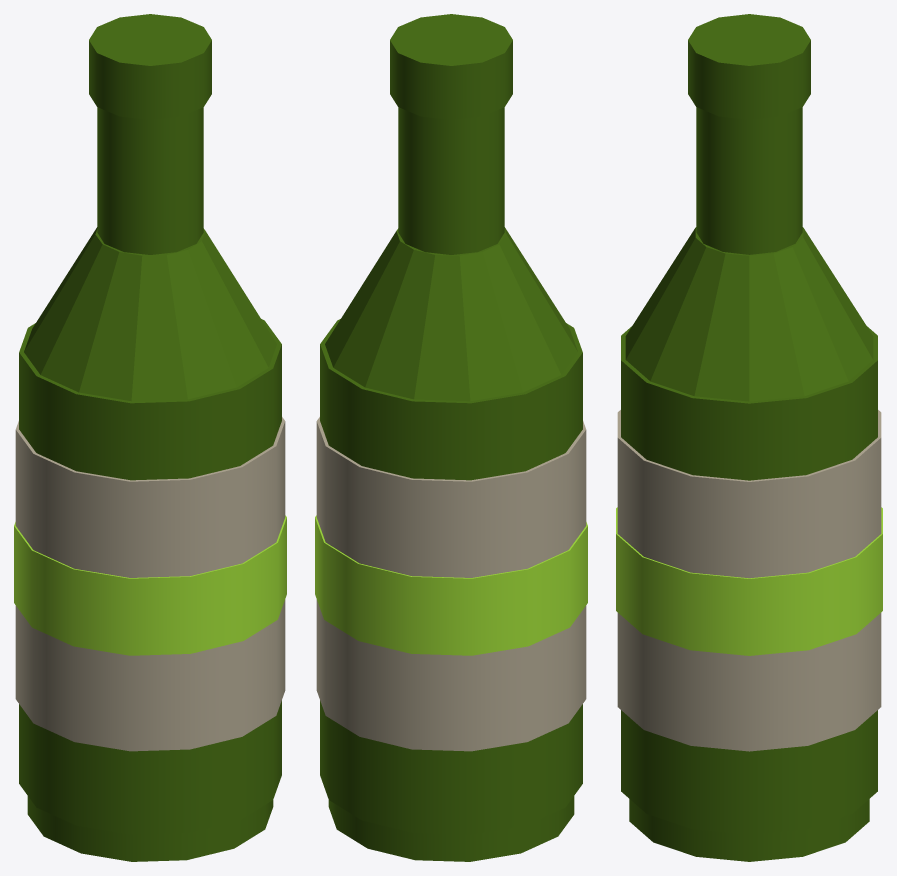
Rendered from drink_bottle_long_stride.gltf.
The picture shows the model from 3 angles, left to right: view 1: azimuth 30°, elevation 25°; view 2: azimuth 150°, elevation 25°; view 3: azimuth 270°, elevation 25°; orthographic projection.
Parts seen in each view (by area): view 1: drink_bottle_long_stride; view 2: drink_bottle_long_stride; view 3: drink_bottle_long_stride.
Boxes of the visible parts, left/top/right/bottom form: drink_bottle_long_stride: left=14, top=14, right=286, bottom=861; drink_bottle_long_stride: left=315, top=14, right=587, bottom=861; drink_bottle_long_stride: left=616, top=14, right=882, bottom=861.
Size of the model in its own units: 0.0644 by 0.2 by 0.0628.
